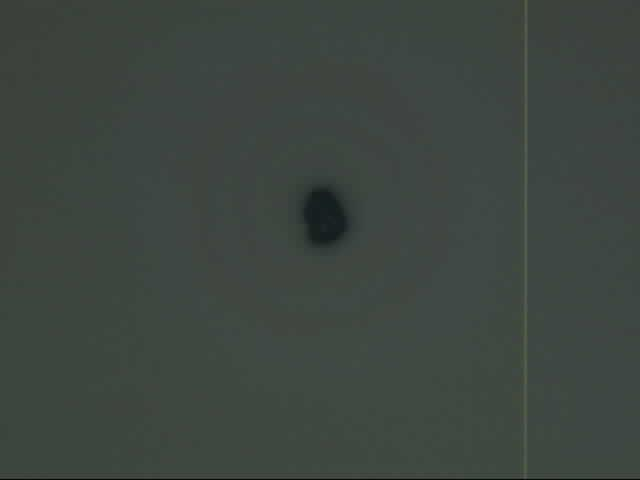PIQ PARTICLE: (287, 174, 362, 256)
